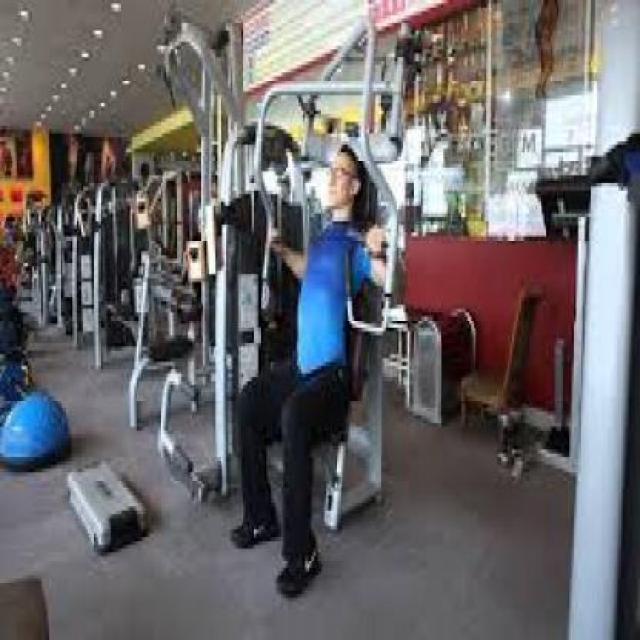Chest Press machine: (223, 15, 419, 603)
